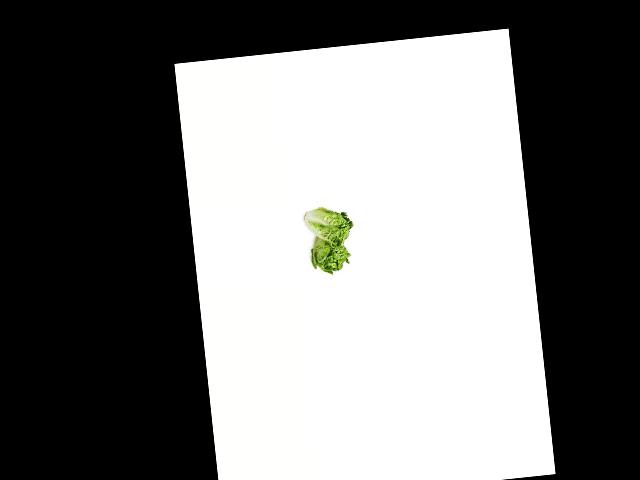lettuce: (303, 229, 352, 276)
